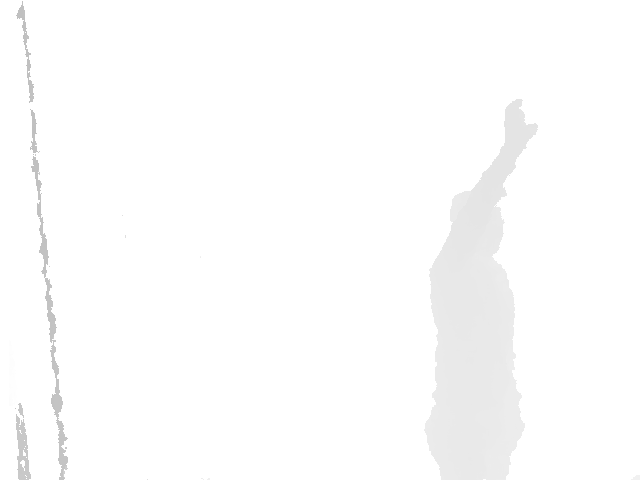hand: (503, 98, 539, 143)
head: (450, 192, 504, 255)
person: (424, 98, 538, 480)
